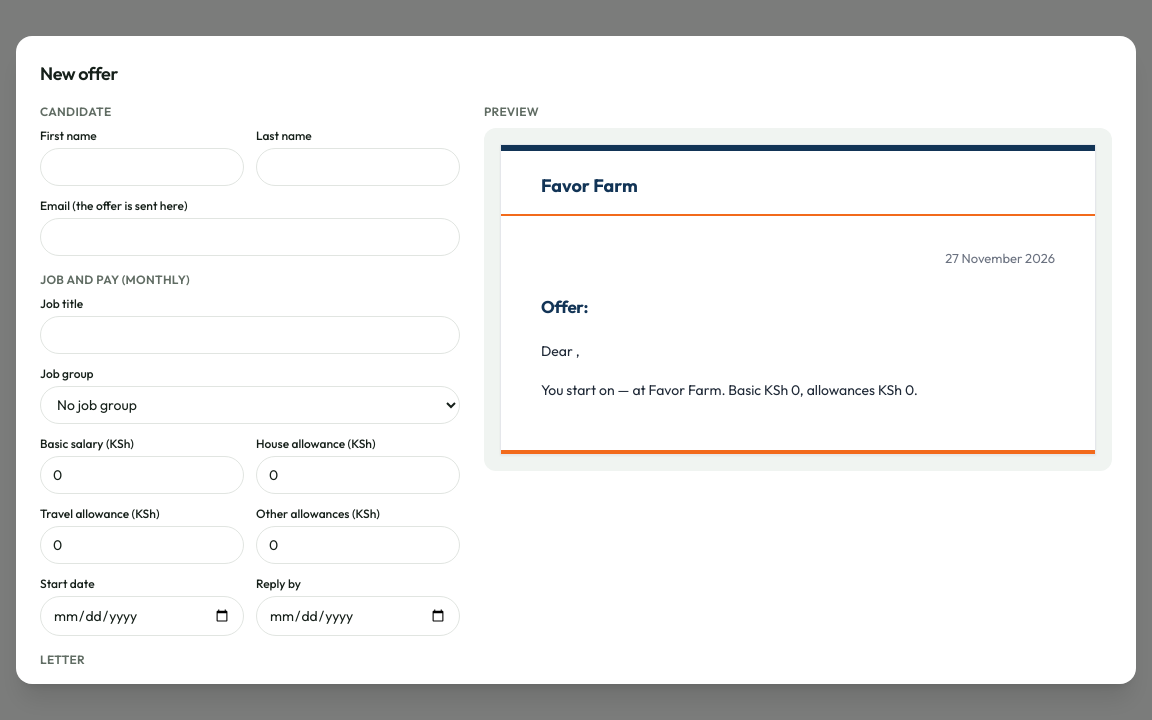
Test case: OfferEditor › a job group fills the pay from its current rate and locks it
Step 1. Select "G4 · Grade 4" in the dropdown labelled "Job group" → (250, 405), box x1=40 y1=386 x2=460 y2=424
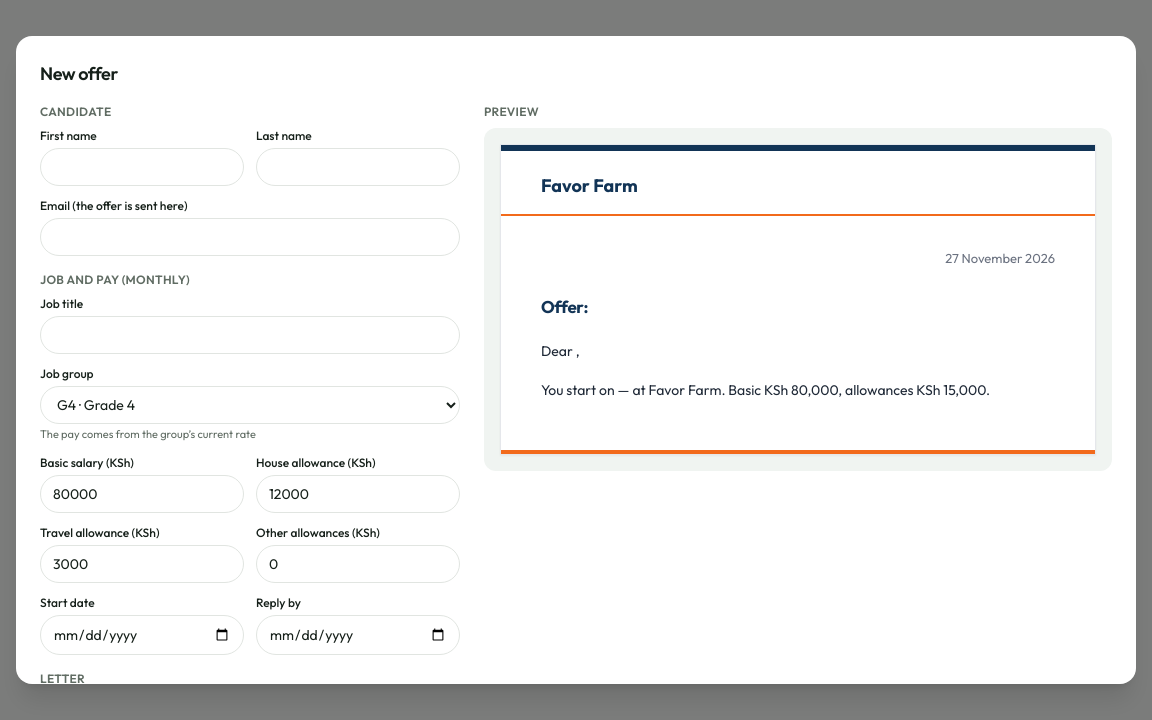
Now the number field labelled "Basic salary" holds "80000", box x1=40 y1=474 x2=244 y2=512
Now the number field labelled "Basic salary" is disabled, box x1=40 y1=474 x2=244 y2=512
Now the text "Basic KSh 80,000, allowances KSh 15,000" is shown, box x1=541 y1=381 x2=990 y2=399
